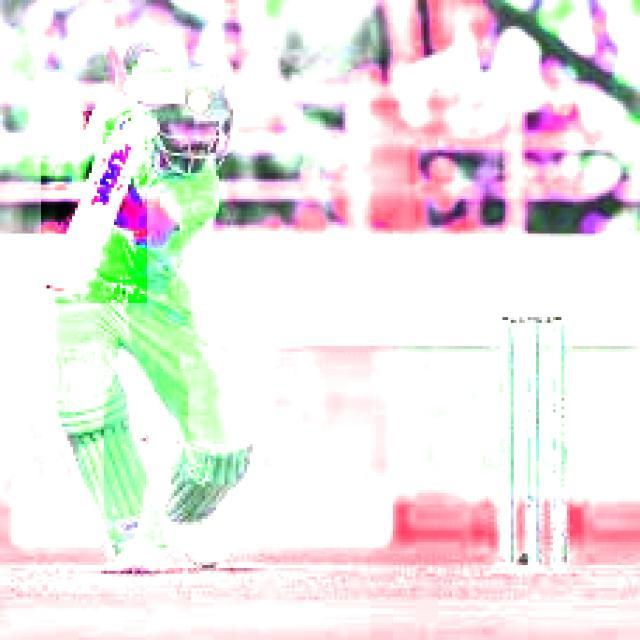bat: (37, 108, 151, 305)
toe: (44, 276, 85, 294)
